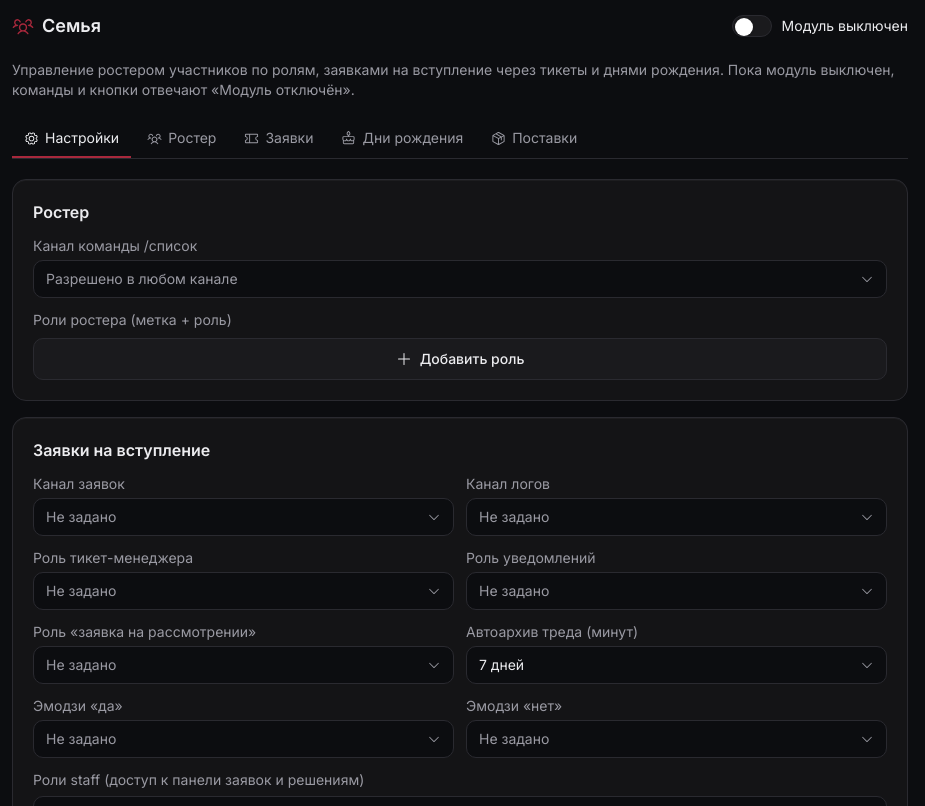
Test: FamilyPage › shows roster groups on the roster tab
Step 1. Click the button "Ростер" → [182, 139], box [135,120,228,158]
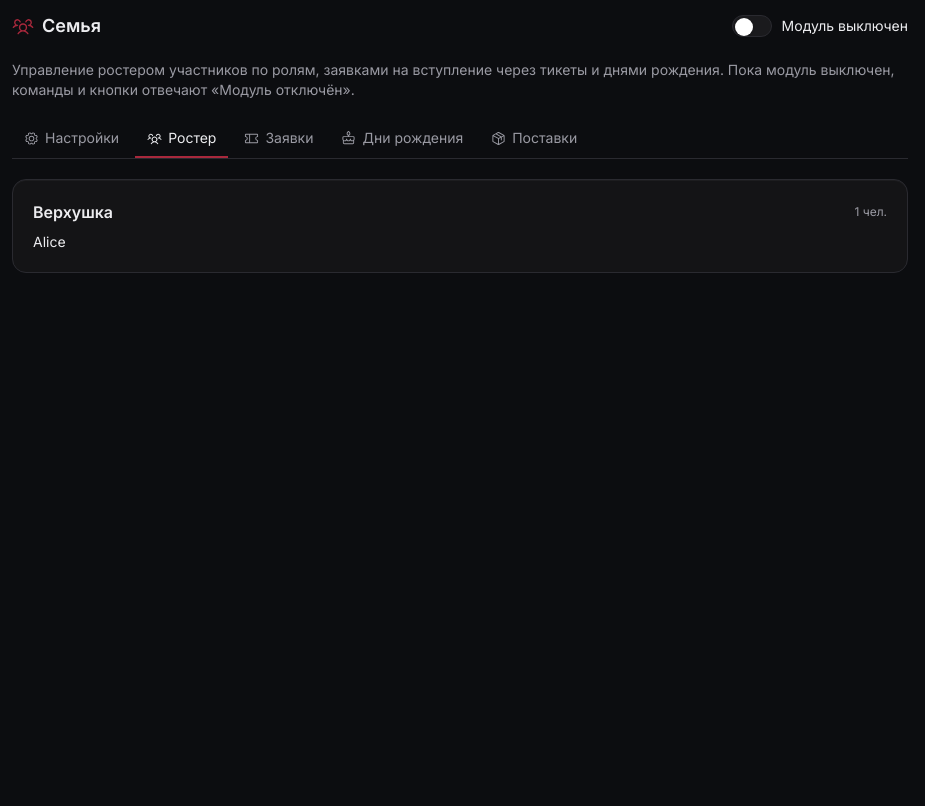
Expected: the heading "Верхушка" is shown, [33,200,113,224]
Expected: the list item "Alice" is shown, [33,233,66,250]
